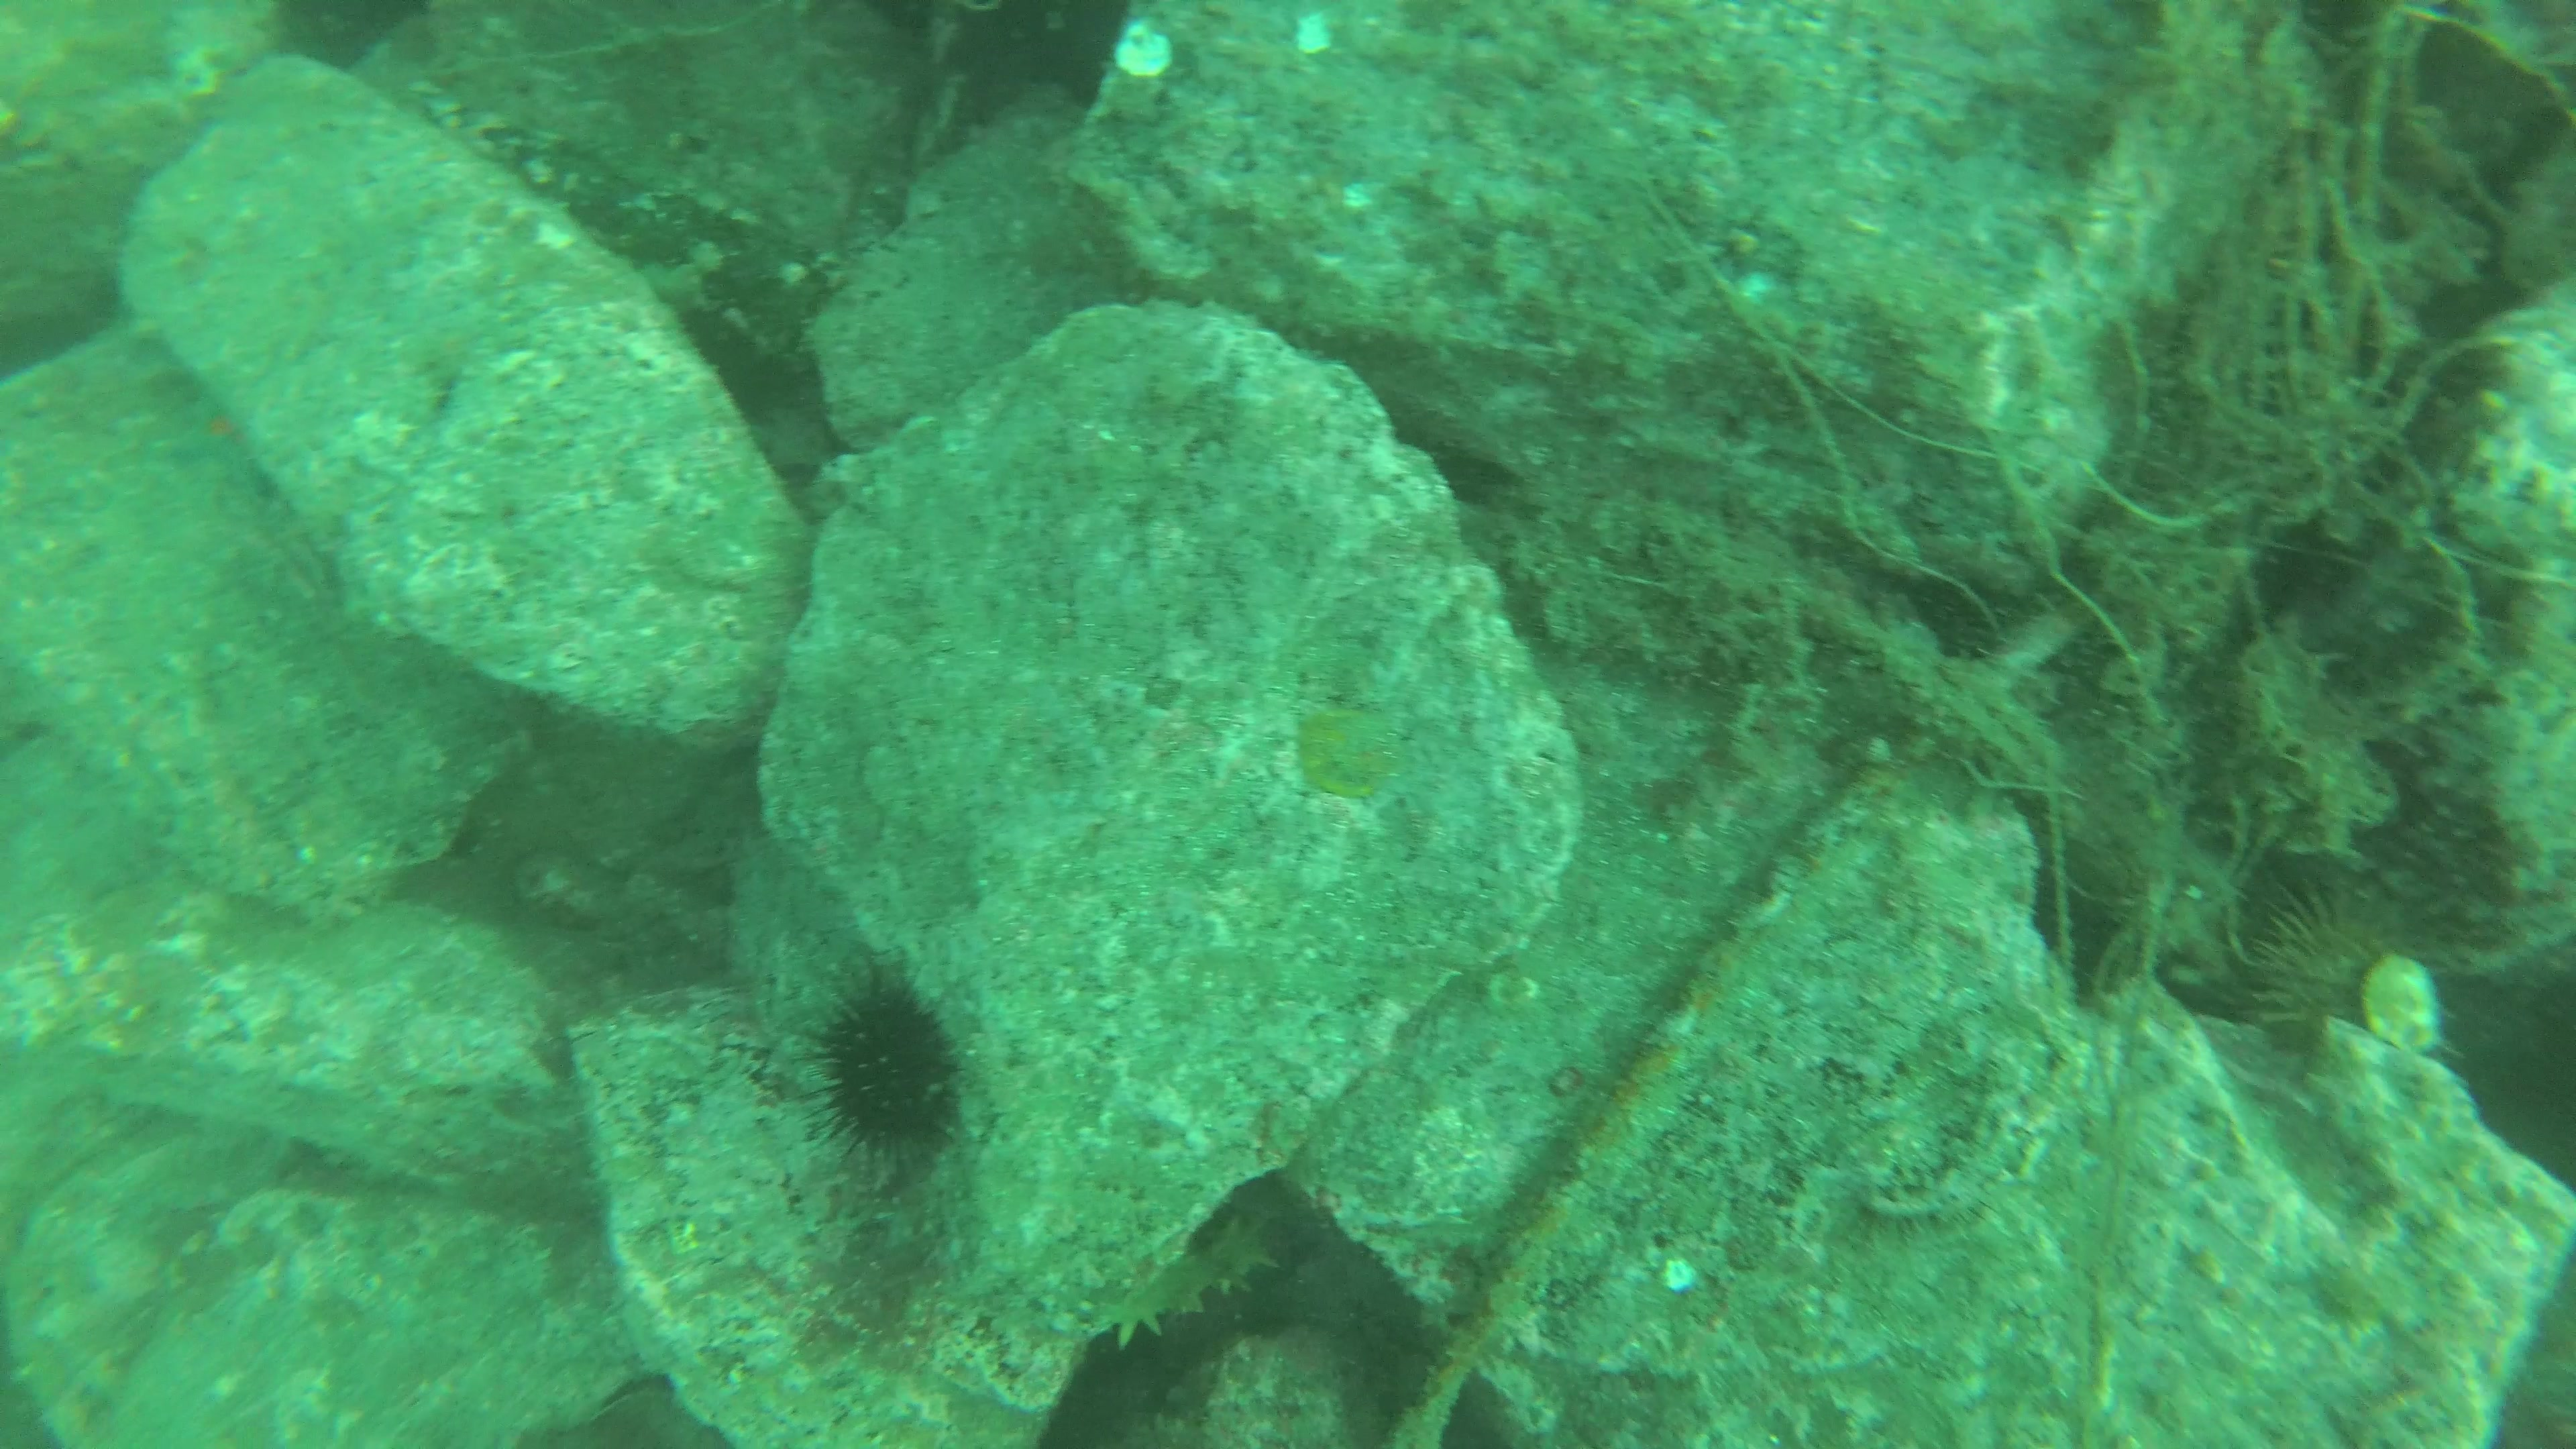echinus: (780, 952, 996, 1189), (2233, 856, 2434, 1051)
holothurian: (1056, 1207, 1288, 1343)
scallop: (1111, 14, 1175, 78), (1292, 7, 1341, 58)
